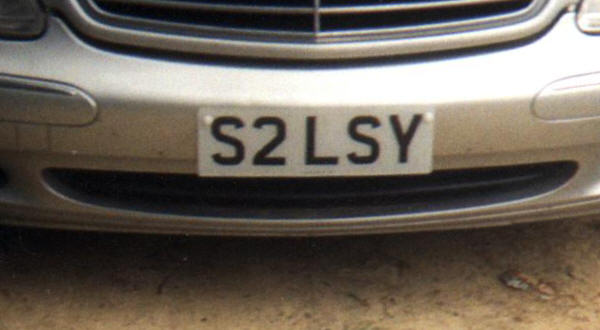license_plate: (197, 106, 434, 176)
